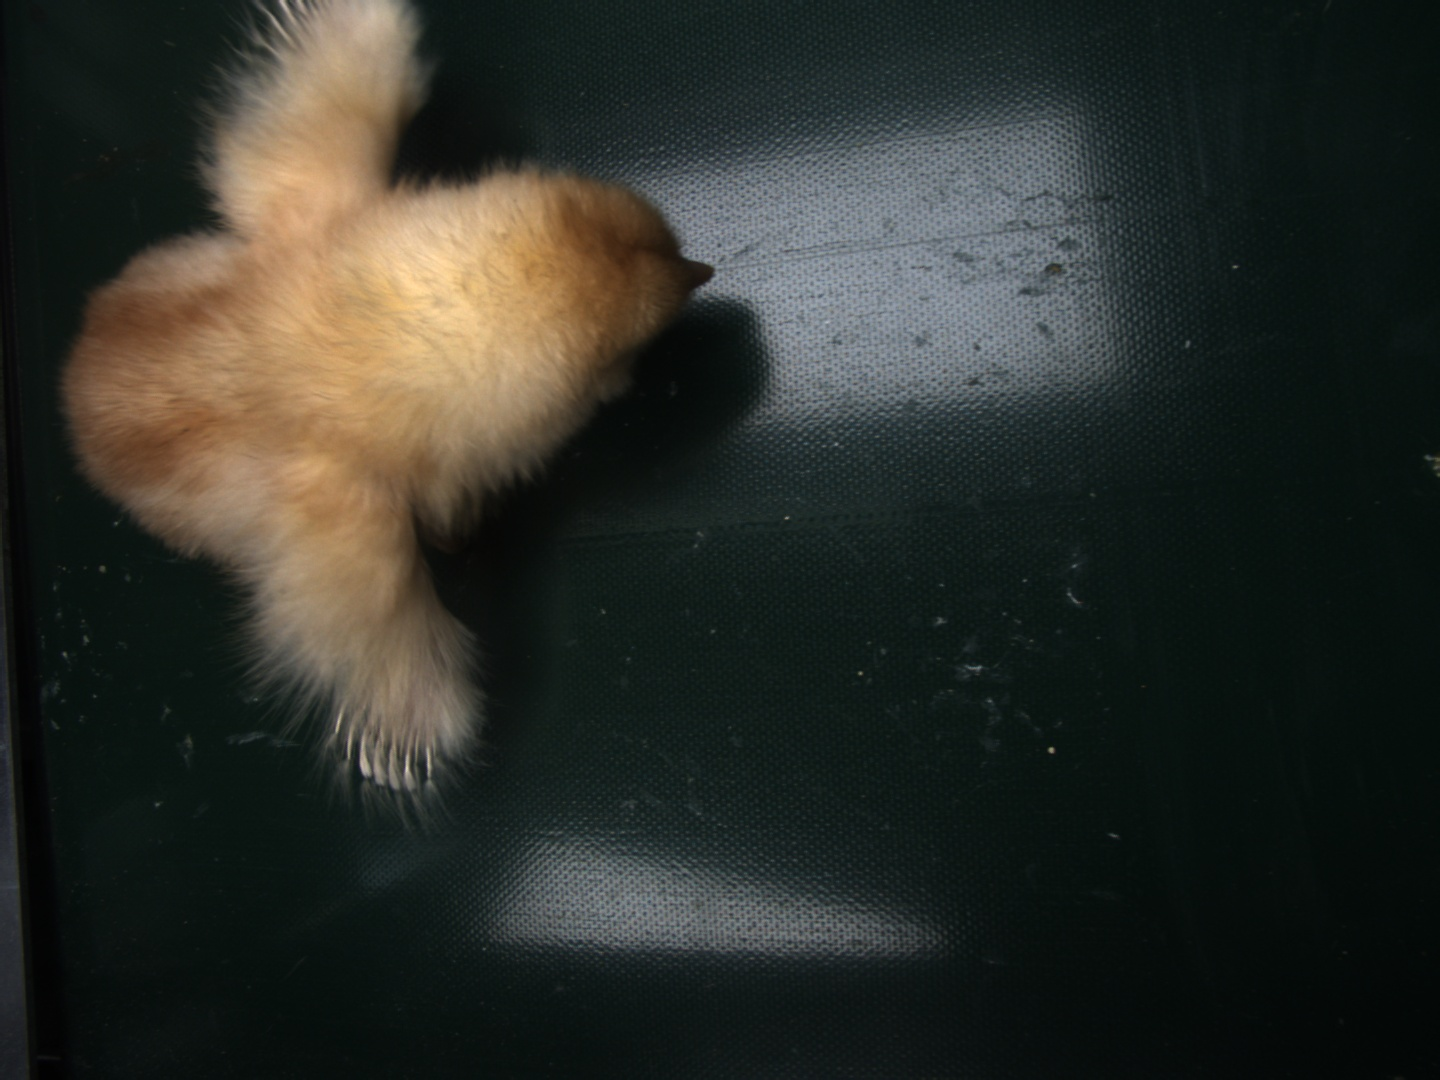female: (333, 681, 441, 792)
